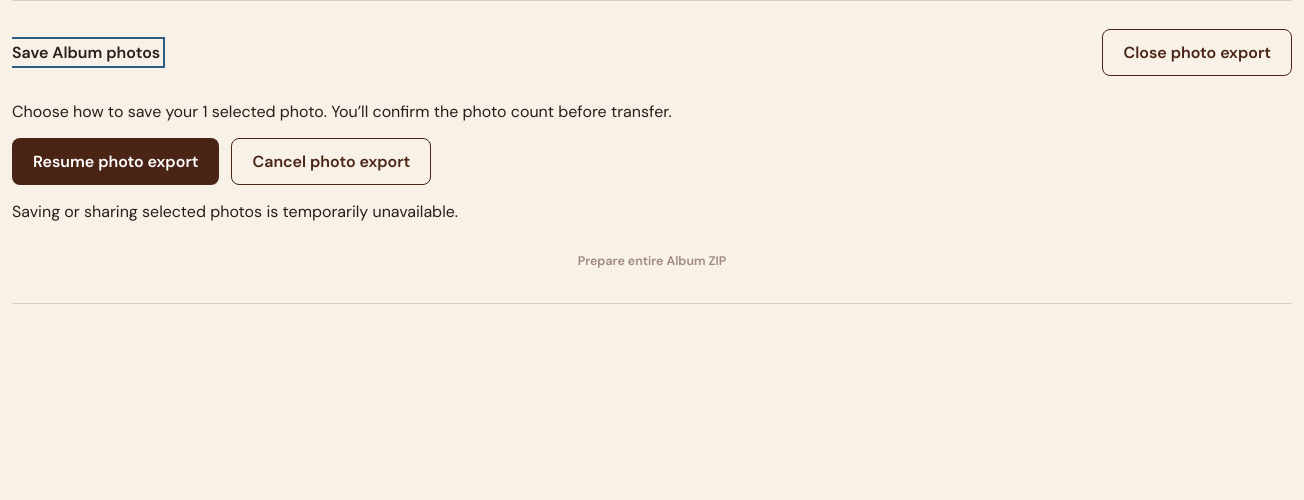
Scenario: photo export chooser › keeps Resume and Cancel available to a paused album owner, including retirement
Check: the button "Prepare entire Album ZIP" is disabled, box [12,239,1292,283]
Click the button "Resume photo export": {"x": 116, "y": 162} [12,138,220,185]
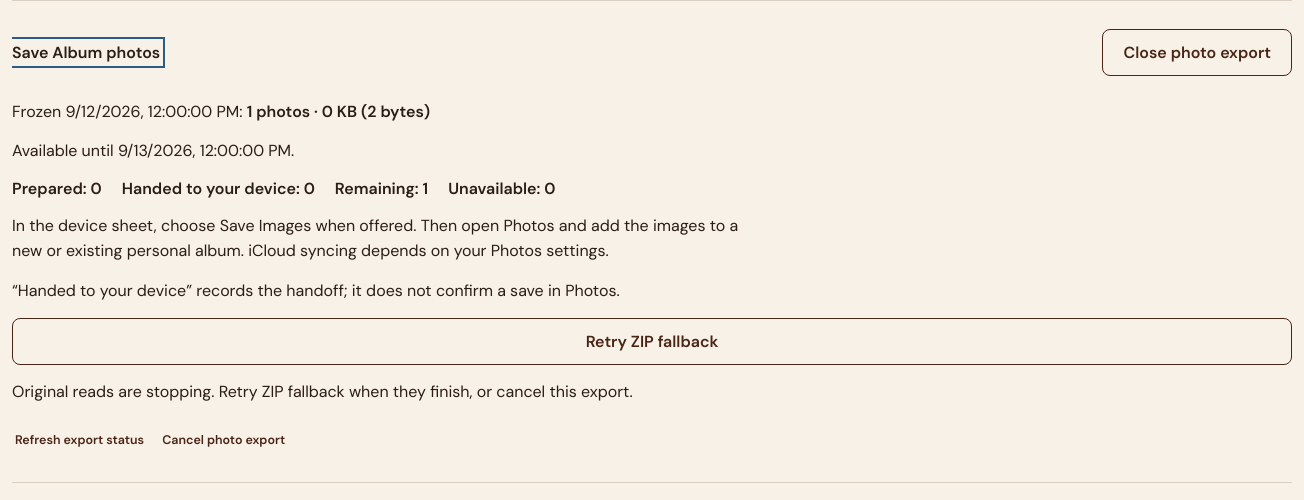
Check: the button "Cancel photo export" is enabled, box [159,418,288,462]
Check: the button "Retry ZIP fallback" is enabled, box [12,318,1292,364]
Check: the button "Prepare entire Album ZIP" is gone
